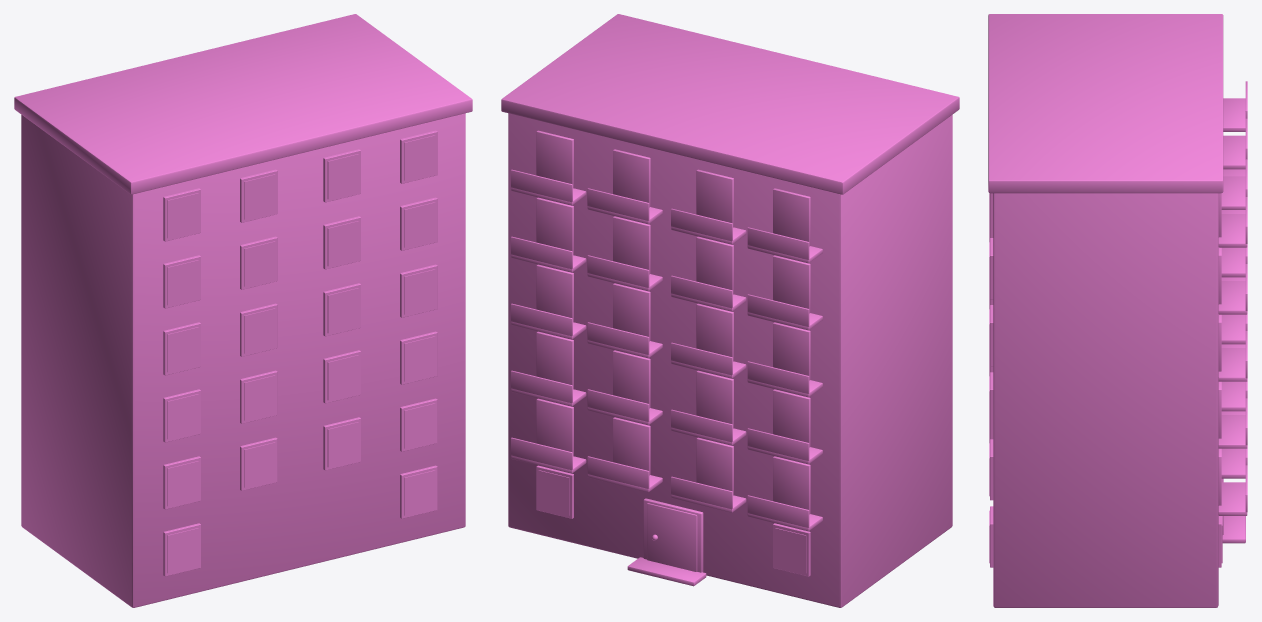
File: Downtown_Apartments.fbx
3 views of the same model, side by side, from view 1: azimuth 30°, elevation 25°; view 2: azimuth 150°, elevation 25°; view 3: azimuth 270°, elevation 25° (orthographic).
Visible parts, largest first — view 1: Paint, Body; view 2: Body, Paint; view 3: Paint, Body.
Part boxes in pixels (left/top/right/bottom): Paint: left=21, top=113, right=465, bottom=607; Body: left=14, top=14, right=472, bottom=576; Body: left=501, top=14, right=959, bottom=586; Paint: left=508, top=113, right=952, bottom=607; Paint: left=993, top=193, right=1218, bottom=607; Body: left=988, top=14, right=1247, bottom=567.
Bounding box in the file's own units: 24.6 × 29.65 × 16.11.
Materials: 1 (1 with a texture image).
